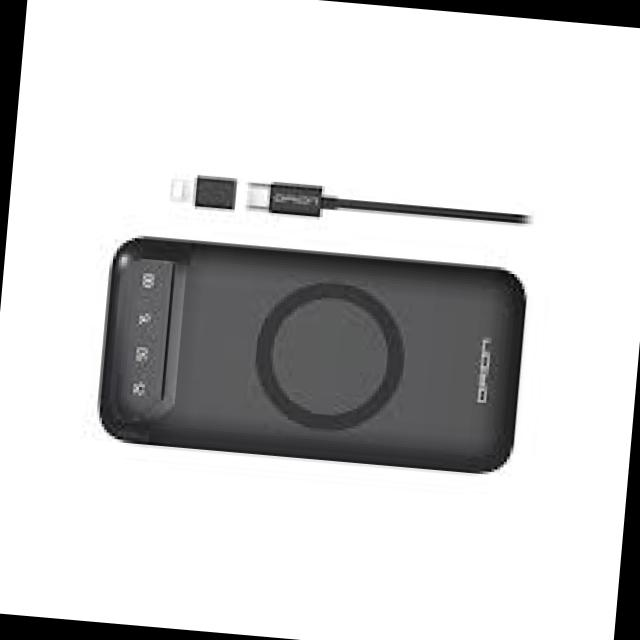power_bank: (92, 228, 531, 480)
